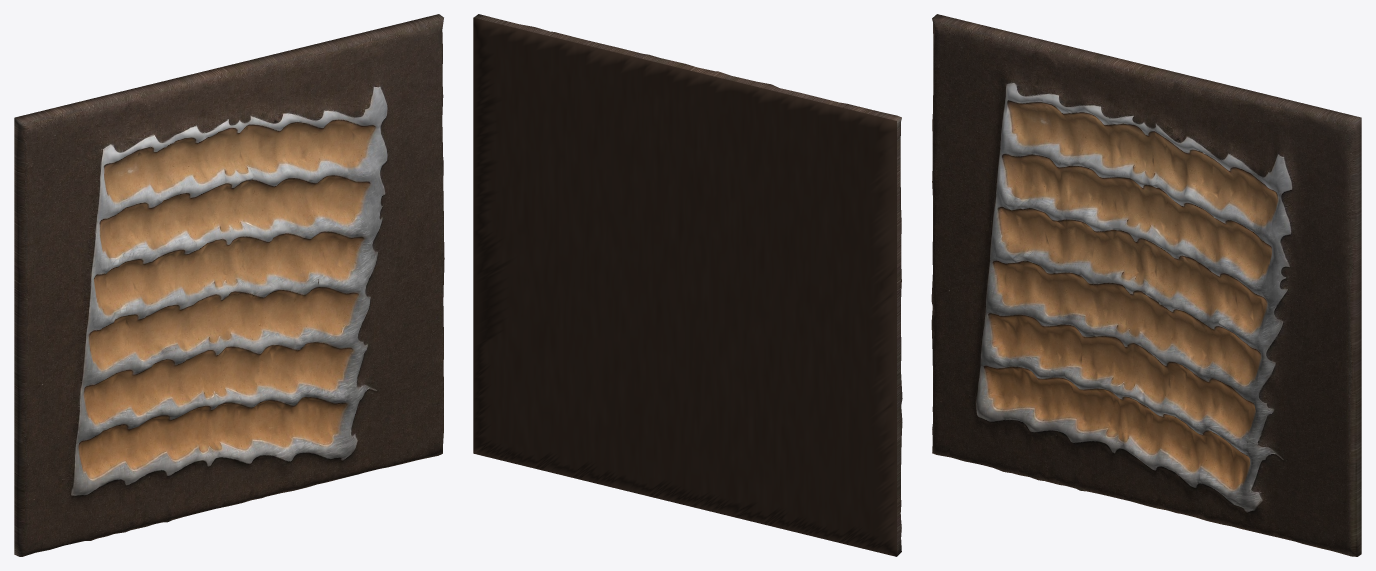
The model's file is hy3d-esc-002.glb.
3 renders of one model, left to right at view 1: azimuth 30°, elevation 25°; view 2: azimuth 150°, elevation 25°; view 3: azimuth 330°, elevation 25°, orthographic.
Visible parts, largest first — view 1: world; view 2: world; view 3: world.
Part boxes in pixels (x1=…): world: x1=14, y1=14, x2=444, y2=556; world: x1=473, y1=14, x2=902, y2=556; world: x1=931, y1=14, x2=1361, y2=556.
Bounding box in the file's own units: 0.7931 × 0.78 × 0.0393.
1 material, 1 textured.
